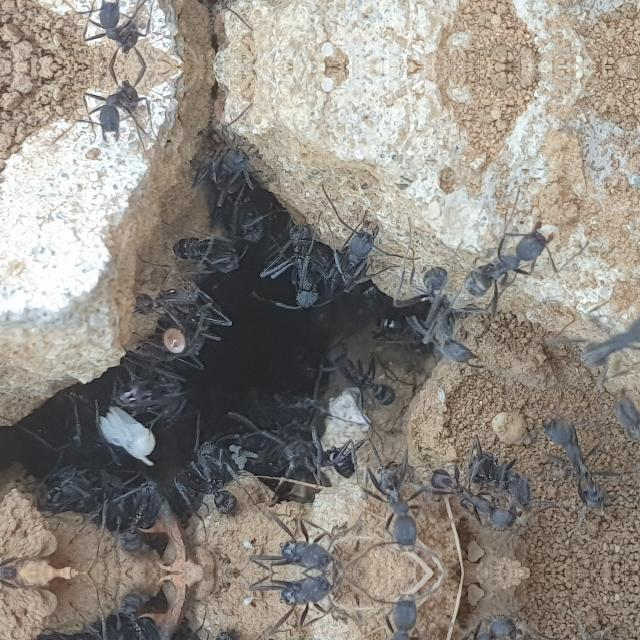Apheanogaster: (378, 260, 488, 378), (528, 410, 626, 524), (454, 222, 562, 308), (183, 133, 273, 234), (420, 463, 526, 539), (112, 361, 208, 437), (312, 336, 406, 412), (358, 454, 428, 556), (74, 68, 162, 148), (323, 208, 395, 300), (24, 456, 124, 522), (264, 208, 332, 304), (94, 474, 168, 560), (155, 288, 235, 362), (269, 426, 363, 488), (181, 441, 251, 524), (566, 299, 640, 376), (74, 0, 162, 64), (160, 223, 254, 280), (254, 522, 358, 572), (254, 574, 358, 622), (94, 584, 166, 640), (357, 588, 428, 640), (420, 606, 526, 640), (23, 622, 122, 640), (181, 620, 251, 640)
